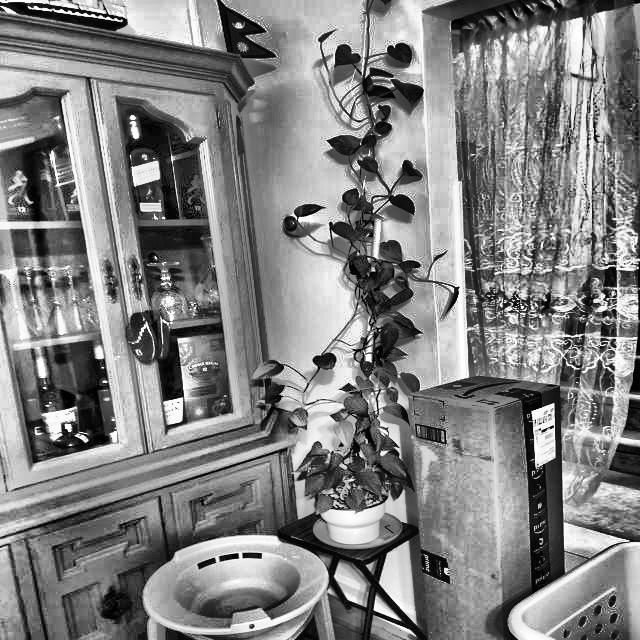plants: (336, 125, 400, 497)
